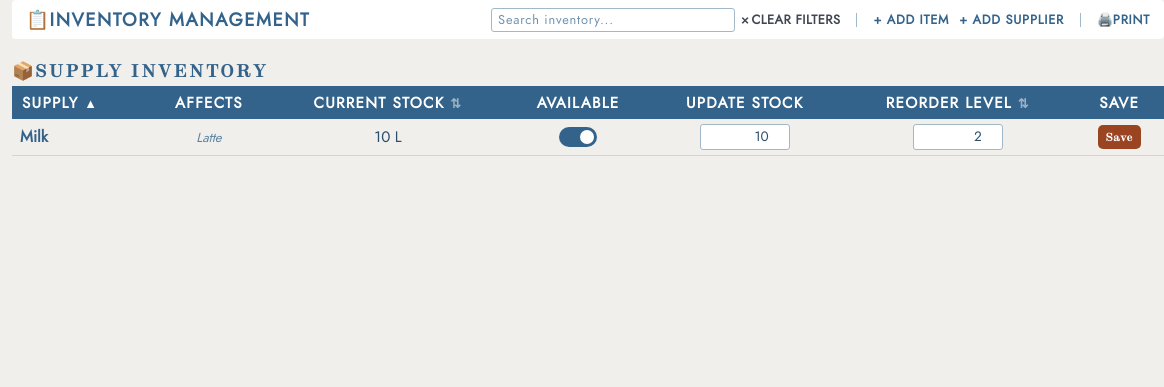
AdminInventoryPage › creates inventory item and updates UI
This screenshot has width=1164, height=387.
Expected: the text "Milk" is shown, [20,126,48,148]
Click the button "+ ADD ITEM": point(911, 20) [873,10,949,28]
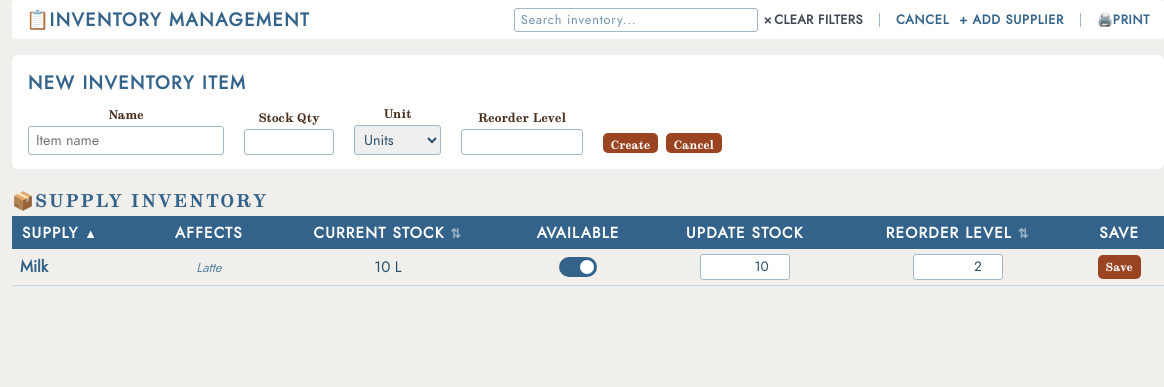
In the field with placeholder "Item name": point(126, 140) [28,126,224,155], type "Brownies"
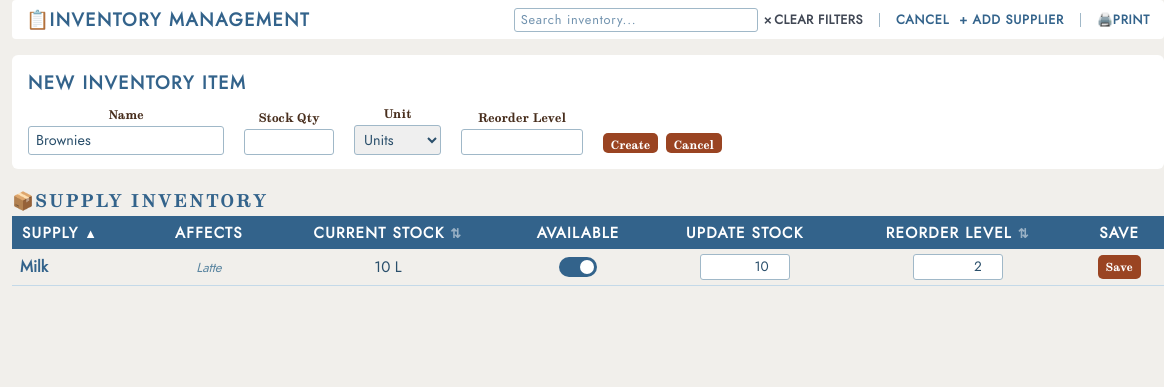
In the number field below "Stock Qty": point(289, 142) [244,129,334,155], type "5"
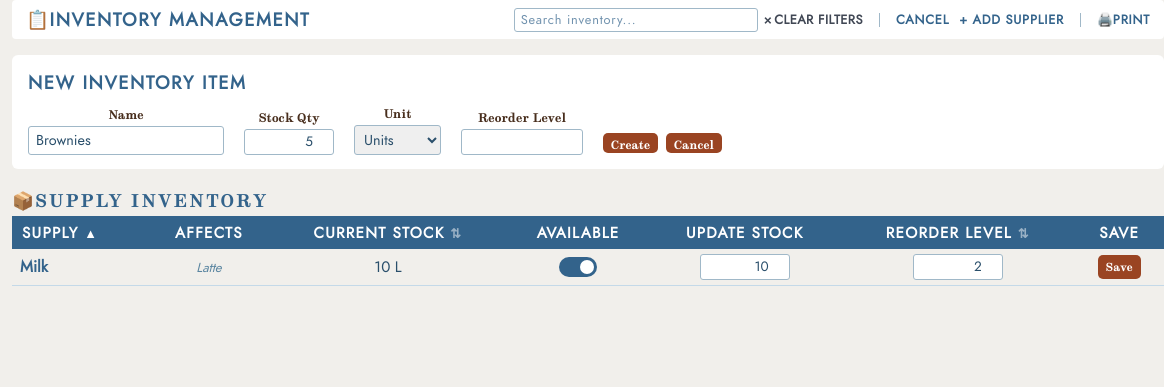
In the 2nd number field: point(522, 142) [461,129,583,155], type "2"
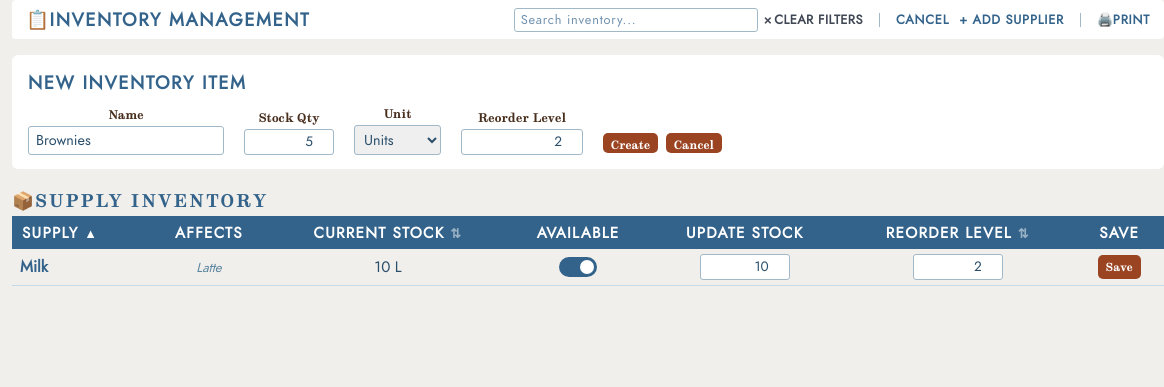
Click the button "Create": point(630, 143) [603,133,658,153]
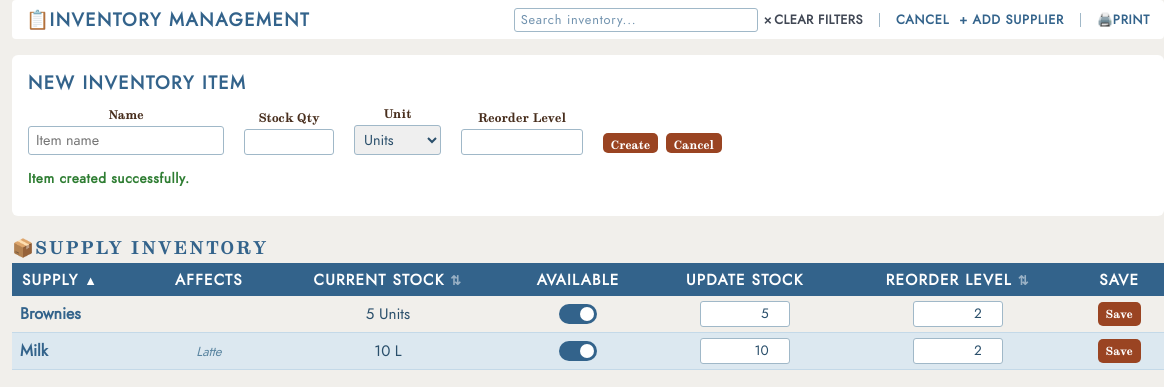
Result: the text "Brownies" is shown at [20,303,81,325]
